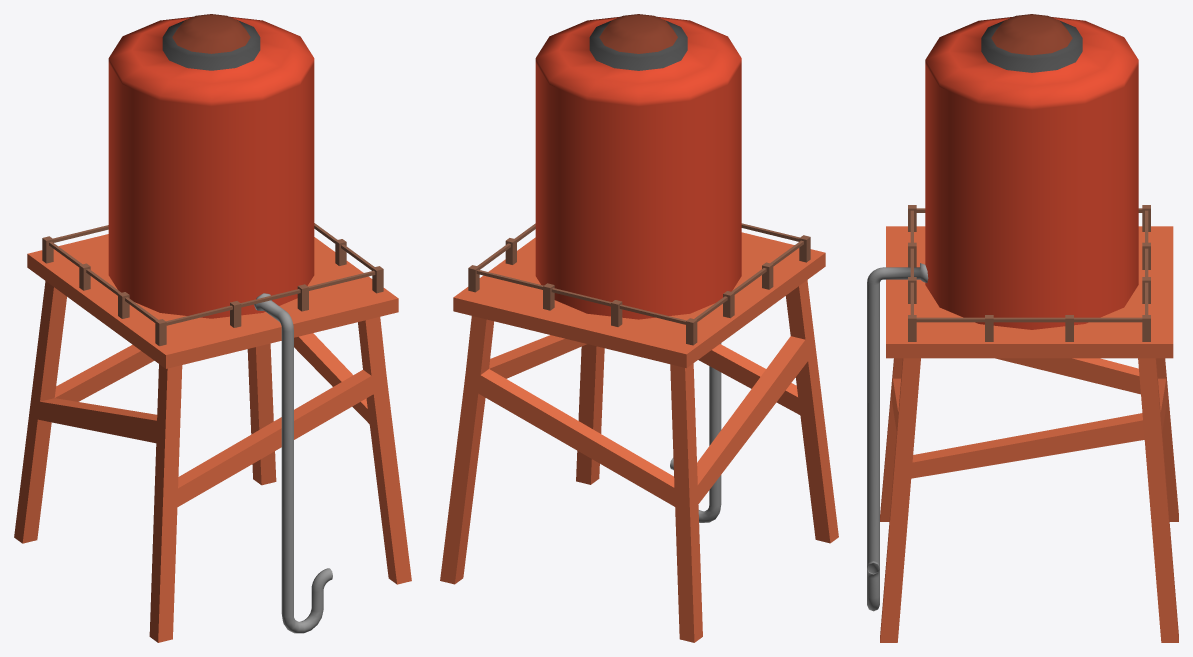
File: torent air.fbx
3 views of the same model, side by side, from view 1: azimuth 30°, elevation 25°; view 2: azimuth 150°, elevation 25°; view 3: azimuth 270°, elevation 25° (orthographic). The views are drawn at different scales.
Visible parts, largest first — view 1: Cylinder; view 2: Cylinder; view 3: Cylinder.
Boxes of the visible parts, x1,y1,x2,y2 form: Cylinder: (14,14,411,642); Cylinder: (440,14,838,642); Cylinder: (867,14,1178,642).
Bounding box in the file's own units: 190 × 398 × 195.
